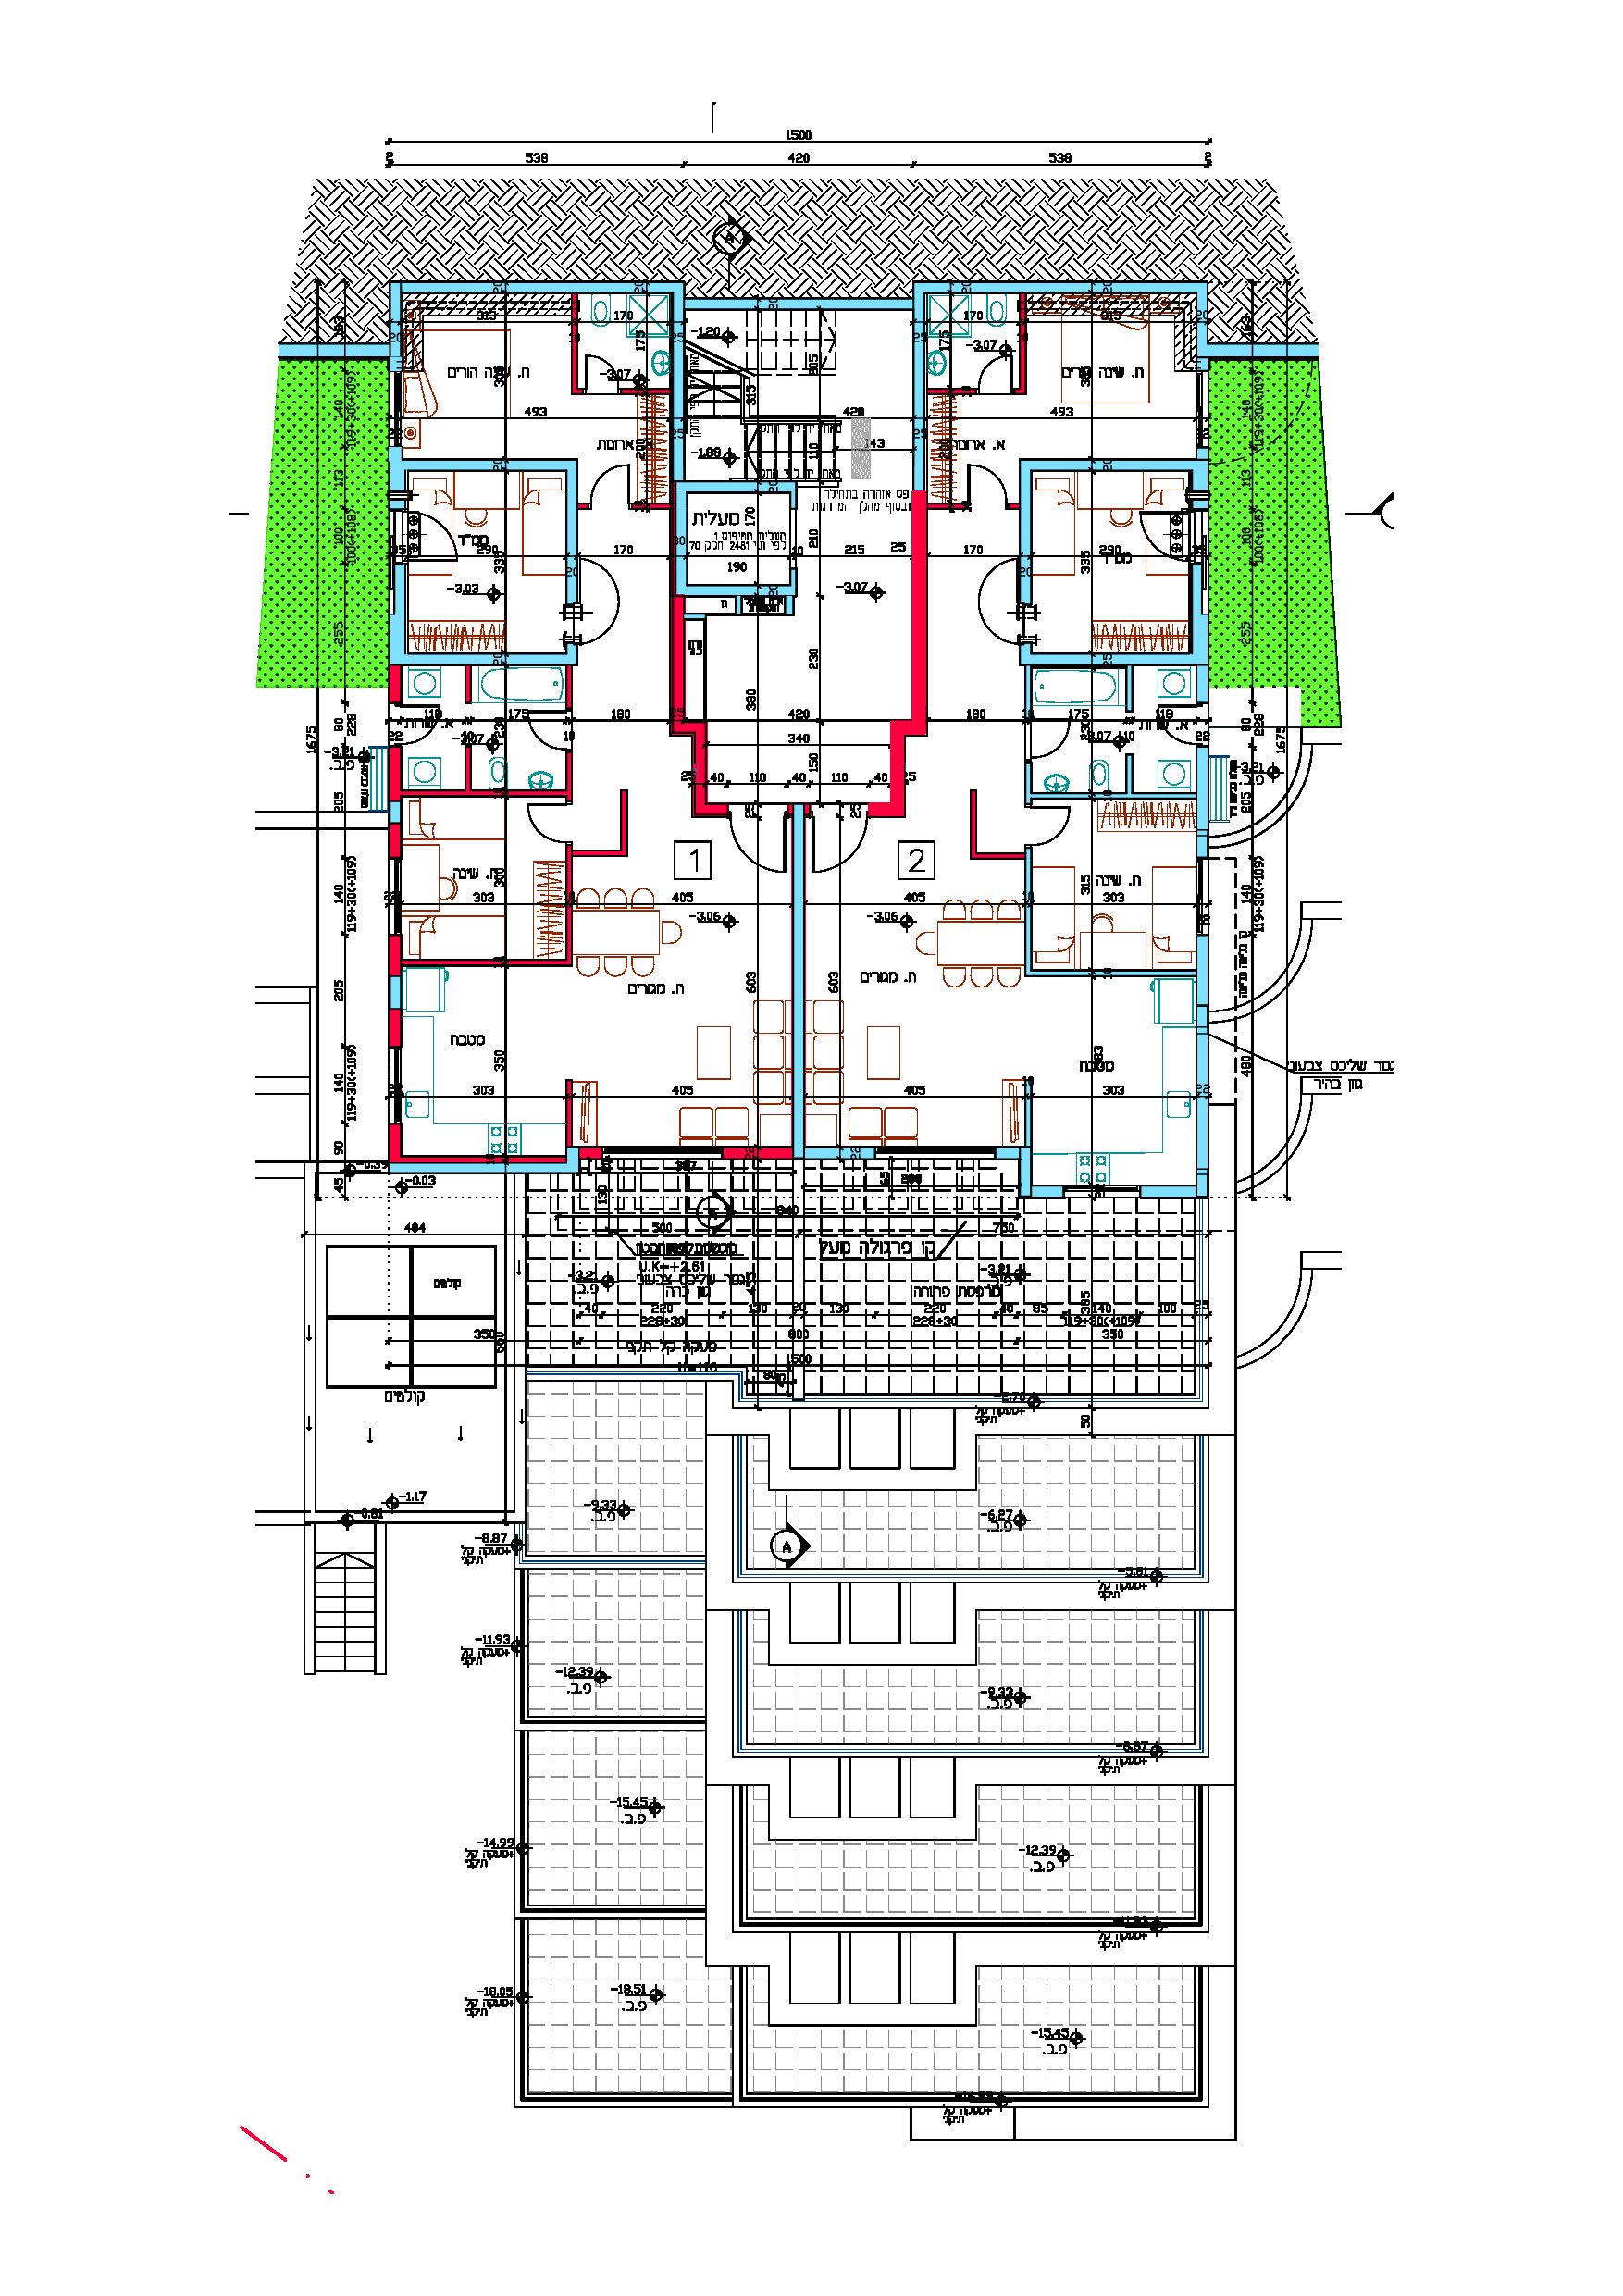door: (1035, 803, 1077, 852), (522, 801, 564, 847), (964, 457, 1008, 497), (588, 460, 634, 495)
wall: (912, 492, 924, 720), (796, 806, 803, 1043), (785, 299, 910, 309), (892, 722, 905, 817), (674, 597, 683, 704), (1021, 462, 1031, 548), (1119, 460, 1205, 471), (566, 464, 576, 548), (395, 569, 404, 664), (511, 283, 629, 290), (1117, 283, 1205, 292), (393, 1163, 502, 1170), (796, 1045, 803, 1147), (390, 462, 492, 469), (674, 346, 683, 413), (404, 283, 485, 290), (689, 481, 752, 490), (982, 285, 1086, 290), (388, 938, 400, 975), (892, 720, 924, 734), (511, 460, 574, 467), (390, 1010, 400, 1045), (390, 1126, 400, 1159), (678, 481, 685, 531), (511, 1166, 574, 1172), (408, 1158, 481, 1161)
